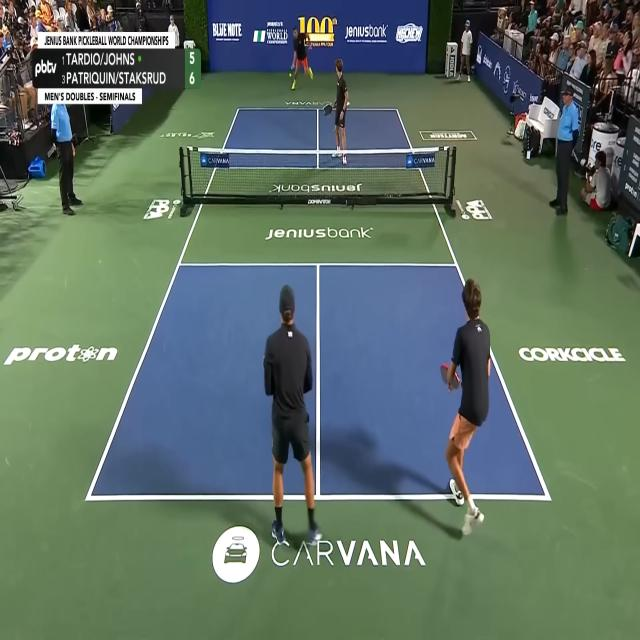ball: (288, 72, 292, 78)
